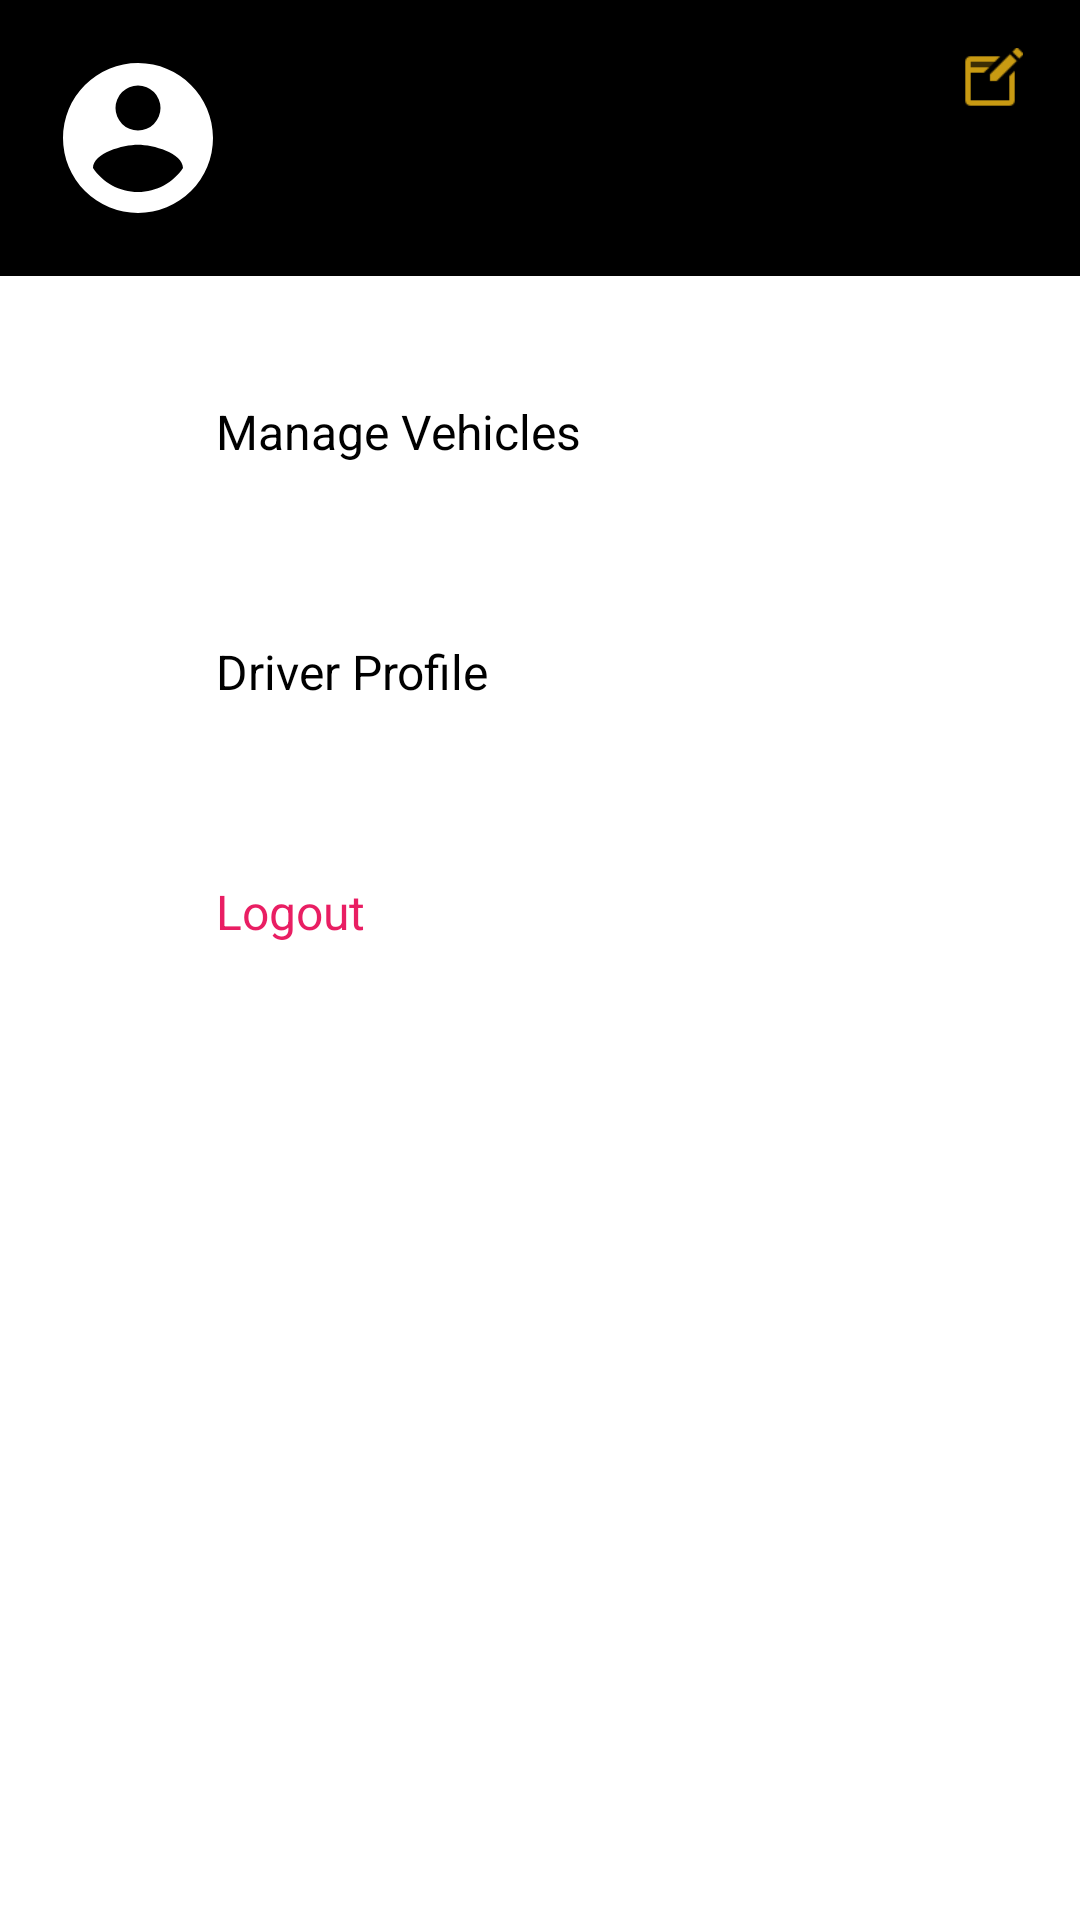

Named icons in this screenshot (1080px×1920px) and their bounding boxes, rect(x1, y1, x2, y2):
edit profile: rect(965, 48, 1023, 106)
profile: rect(63, 63, 213, 213)
